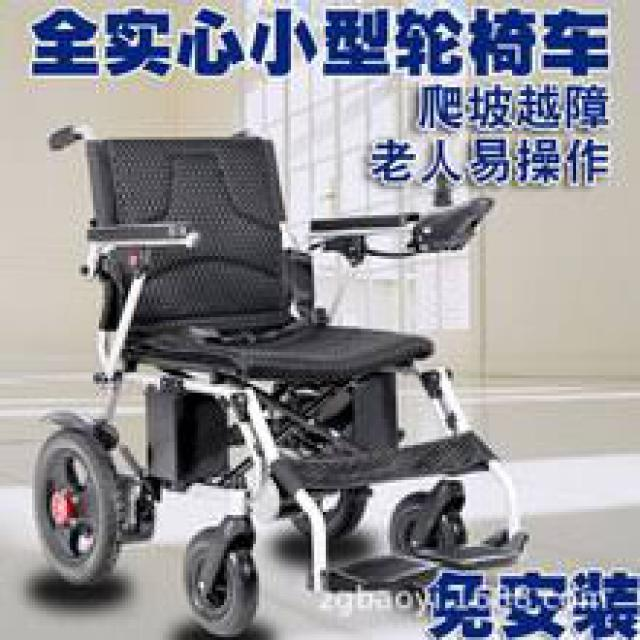wheelchair: (26, 114, 532, 626)
